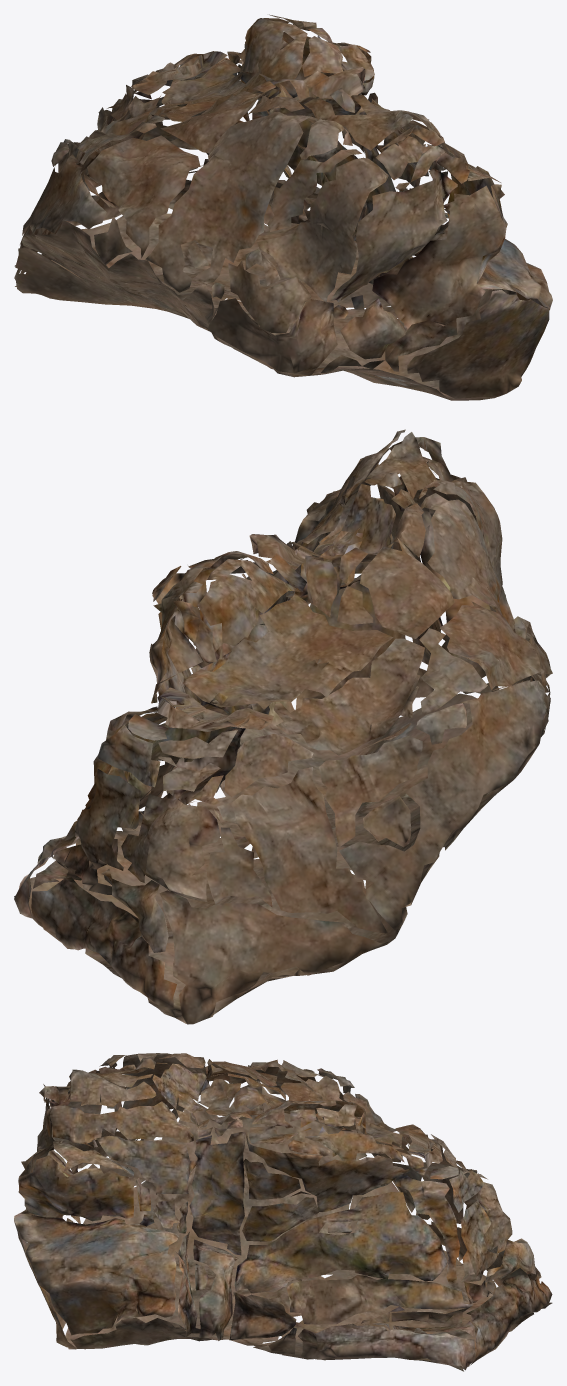
Rendered from boulder-d.glb.
The picture shows the model from 3 angles, top to bottom: view 1: azimuth 30°, elevation 25°; view 2: azimuth 150°, elevation 25°; view 3: azimuth 270°, elevation 25°; orthographic projection. The views are drawn at different scales.
Parts seen in each view (by area): view 1: boulder_01; view 2: boulder_01; view 3: boulder_01.
Boxes of the visible parts, left/top/right/bottom form: boulder_01: left=14, top=14, right=552, bottom=400; boulder_01: left=14, top=429, right=552, bottom=1024; boulder_01: left=14, top=1053, right=552, bottom=1371.
Bounding box in the file's own units: 1.26 × 0.9974 × 1.82.
Materials: 1 (1 with a texture image).
